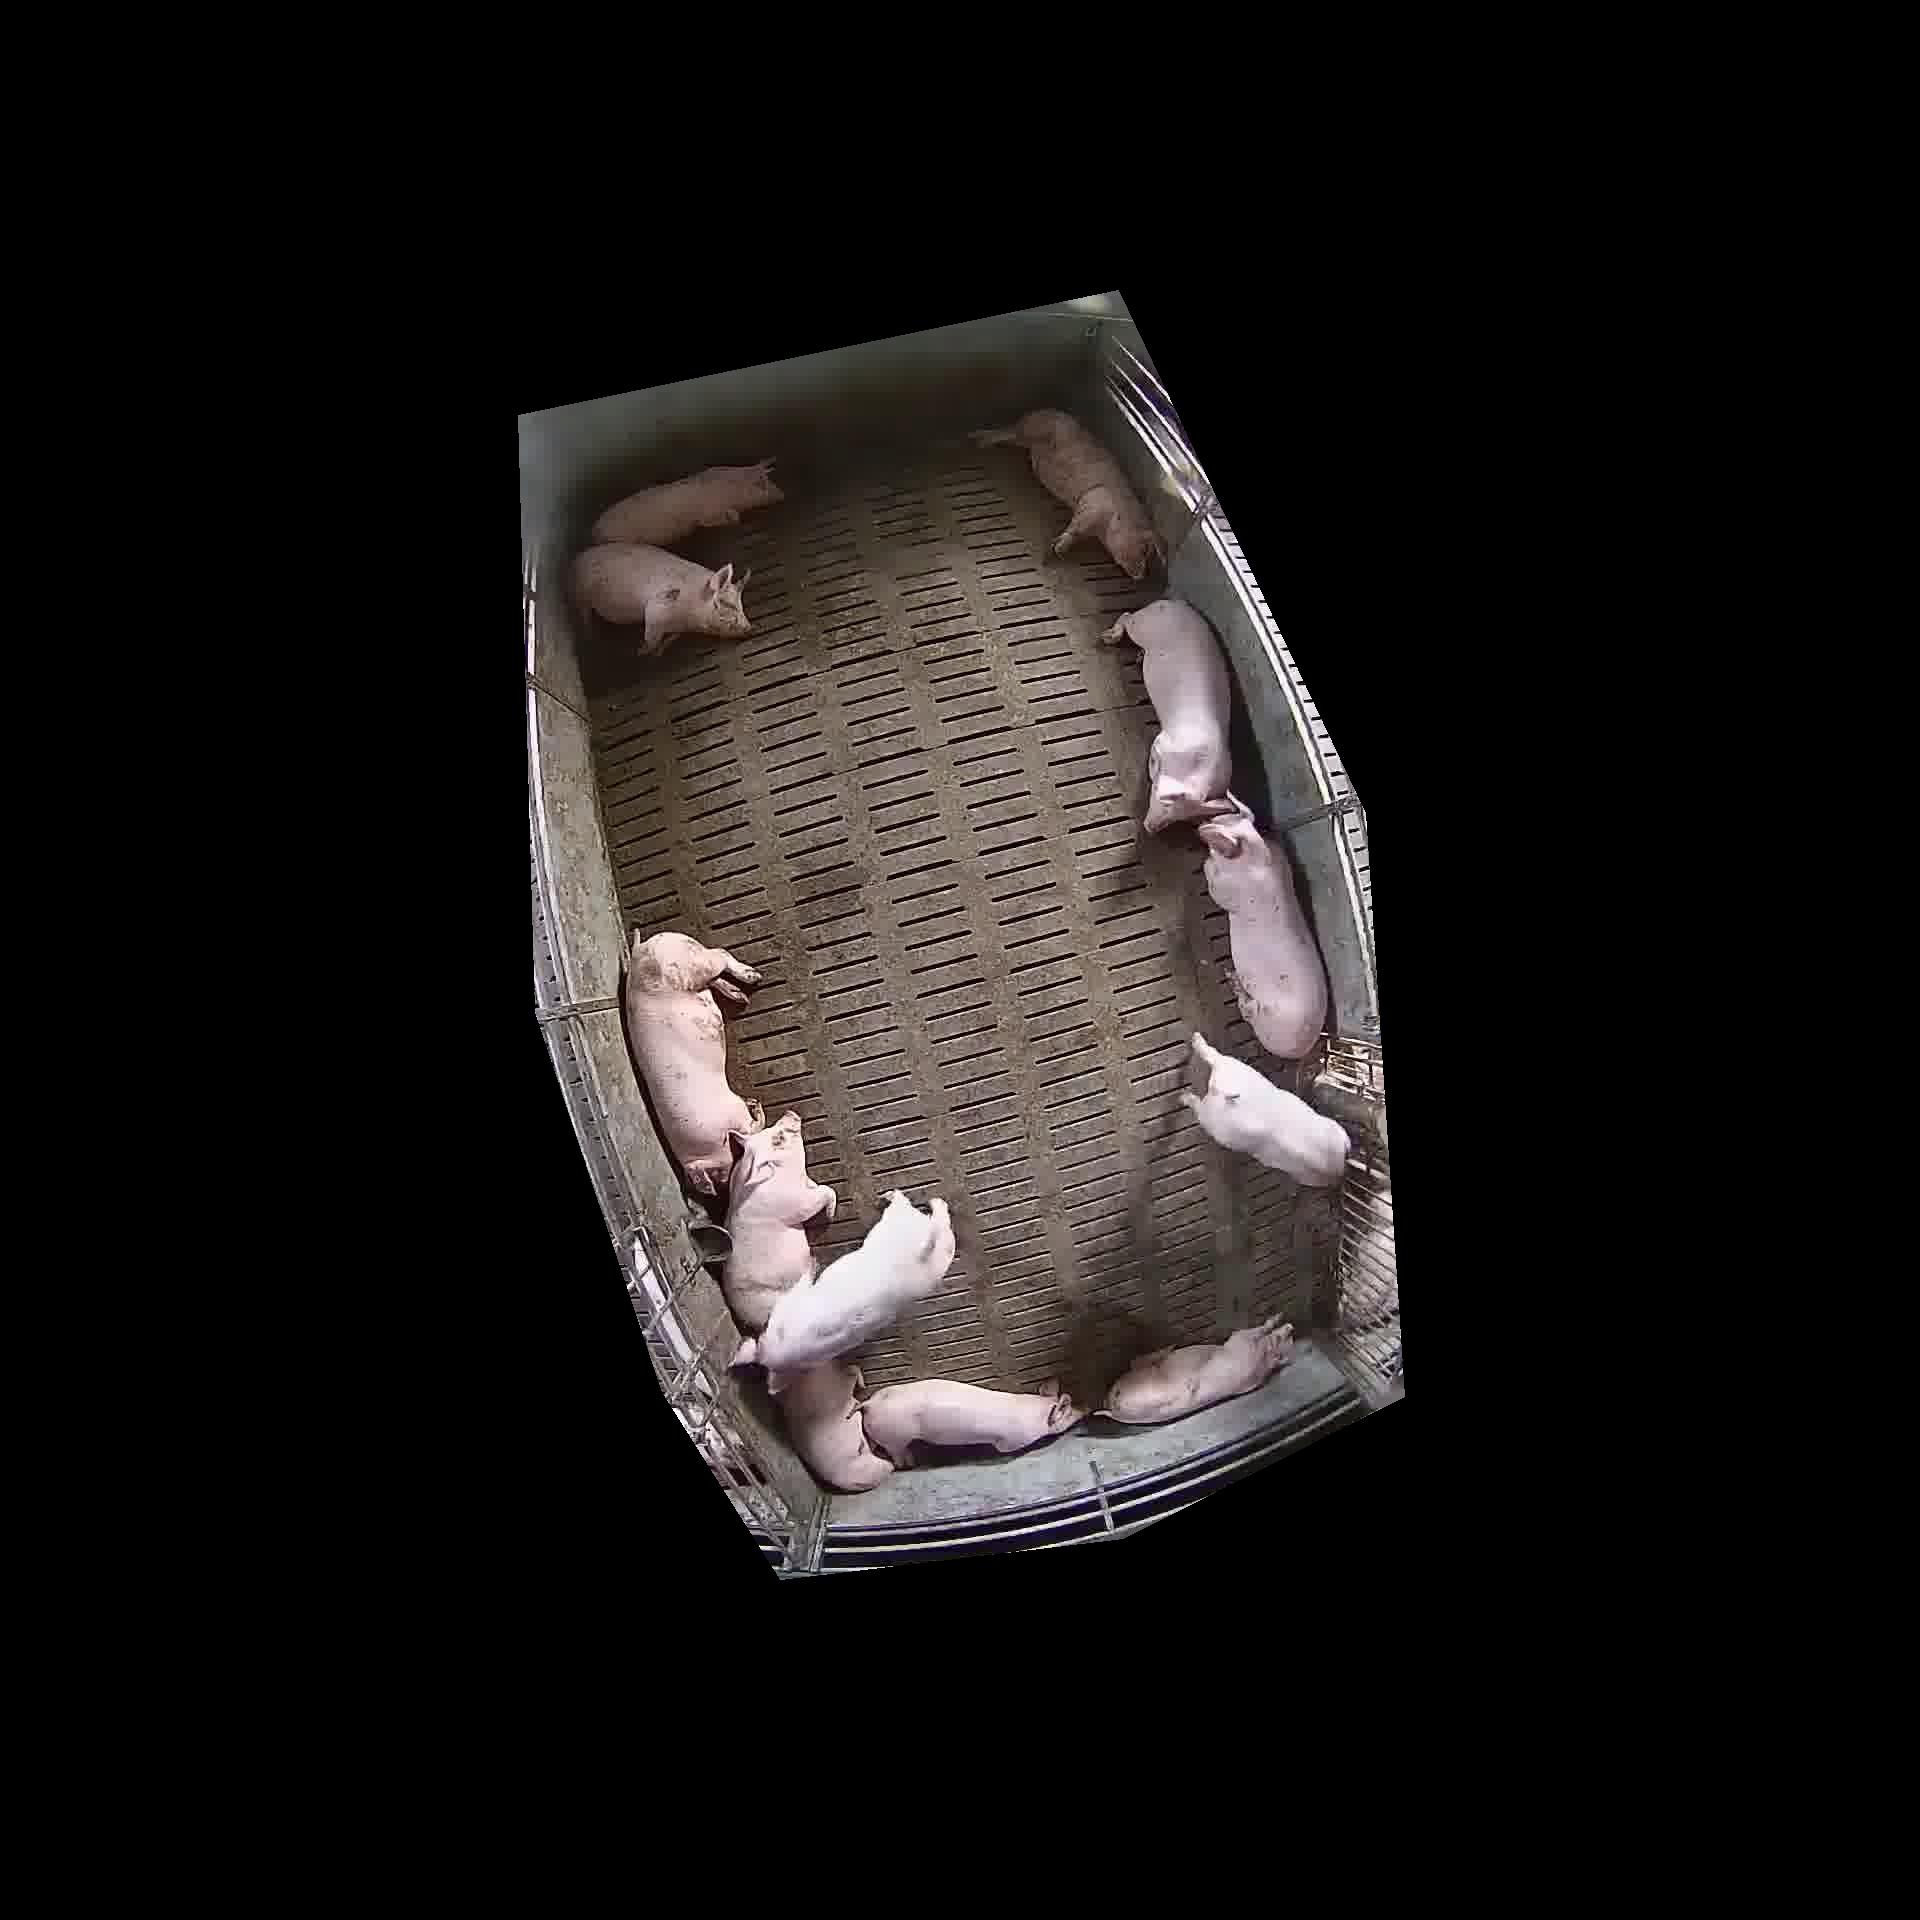pig: (758, 1190, 955, 1373), (624, 932, 761, 1194), (1197, 798, 1327, 1057), (972, 410, 1160, 578), (1104, 598, 1231, 832), (1182, 1034, 1349, 1187), (723, 1111, 835, 1335), (1104, 1315, 1294, 1422), (862, 1378, 1083, 1466), (573, 543, 751, 652), (593, 459, 782, 545), (768, 1359, 891, 1489)
